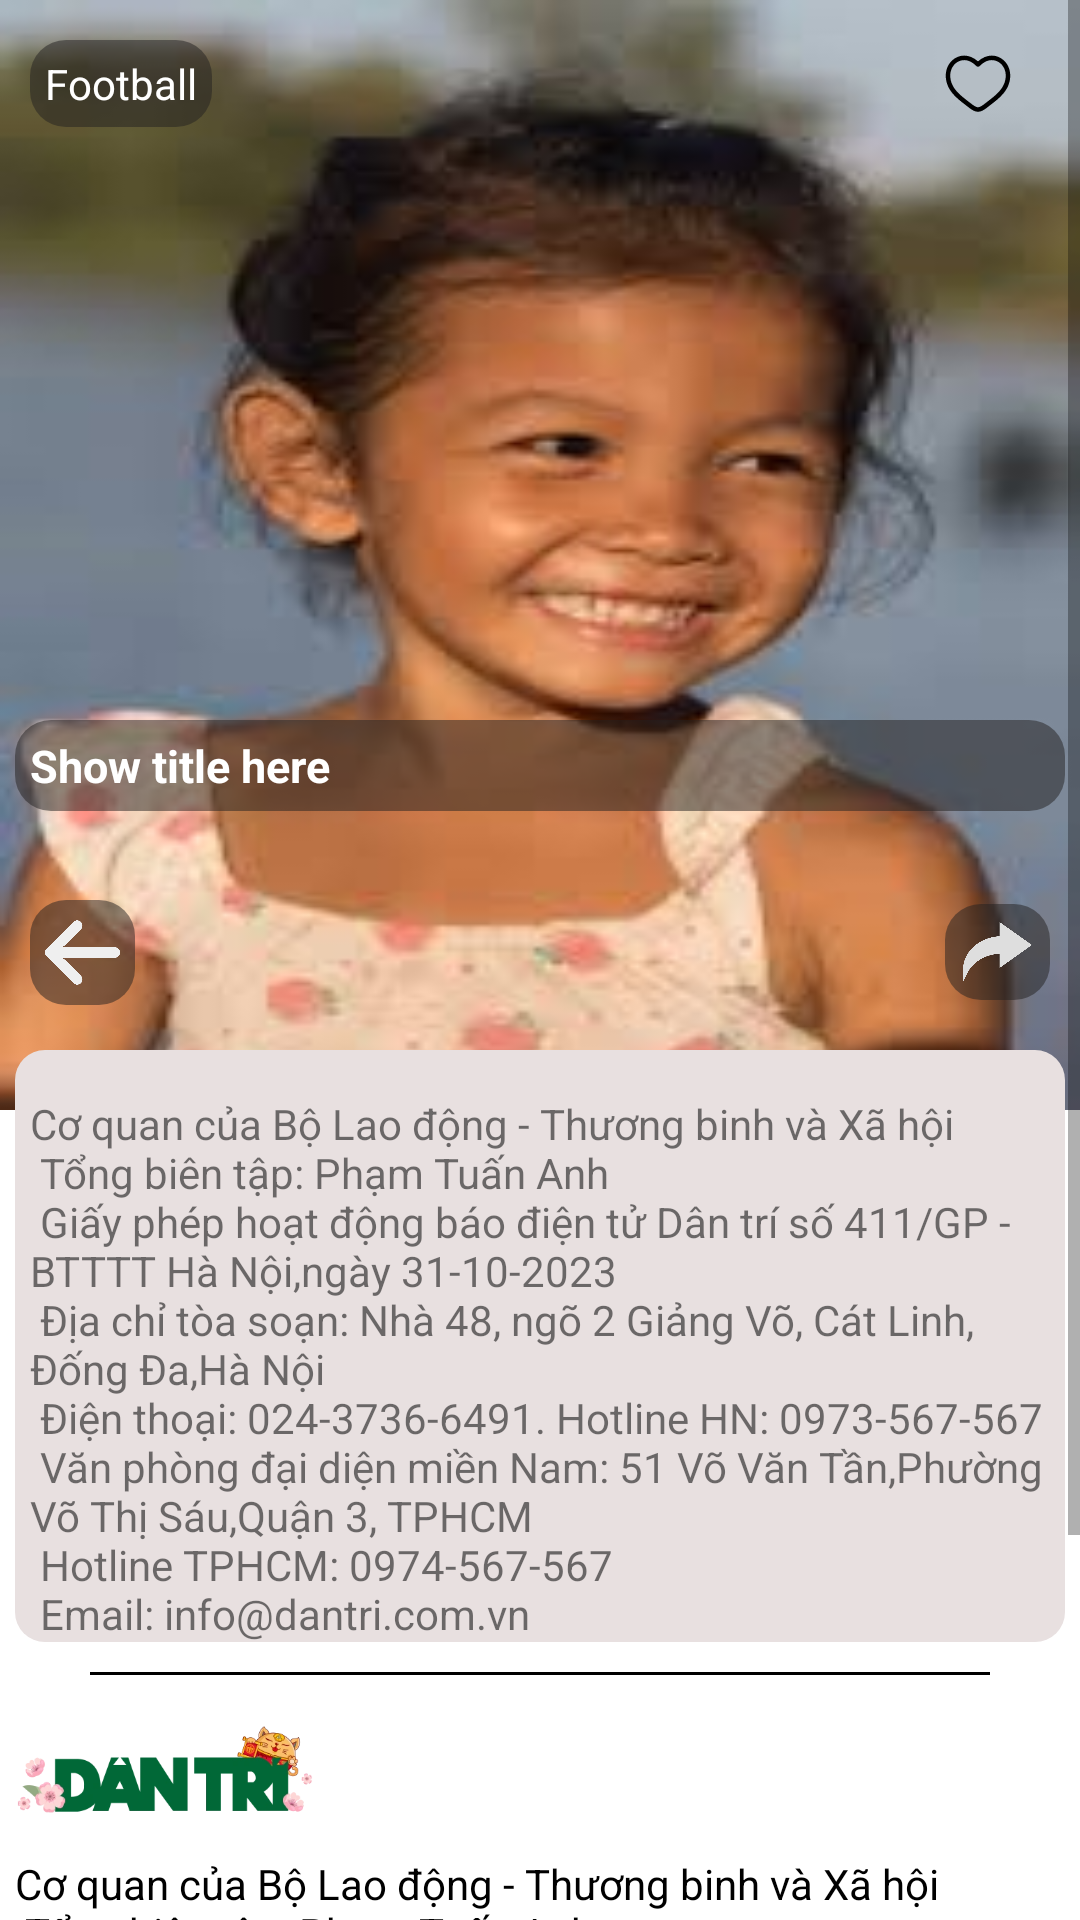

Where to tap for icons on this 1080×1920 app screen, as (x=x, y=y):
backwhite: (x=82, y=952)
share: (x=997, y=952)
